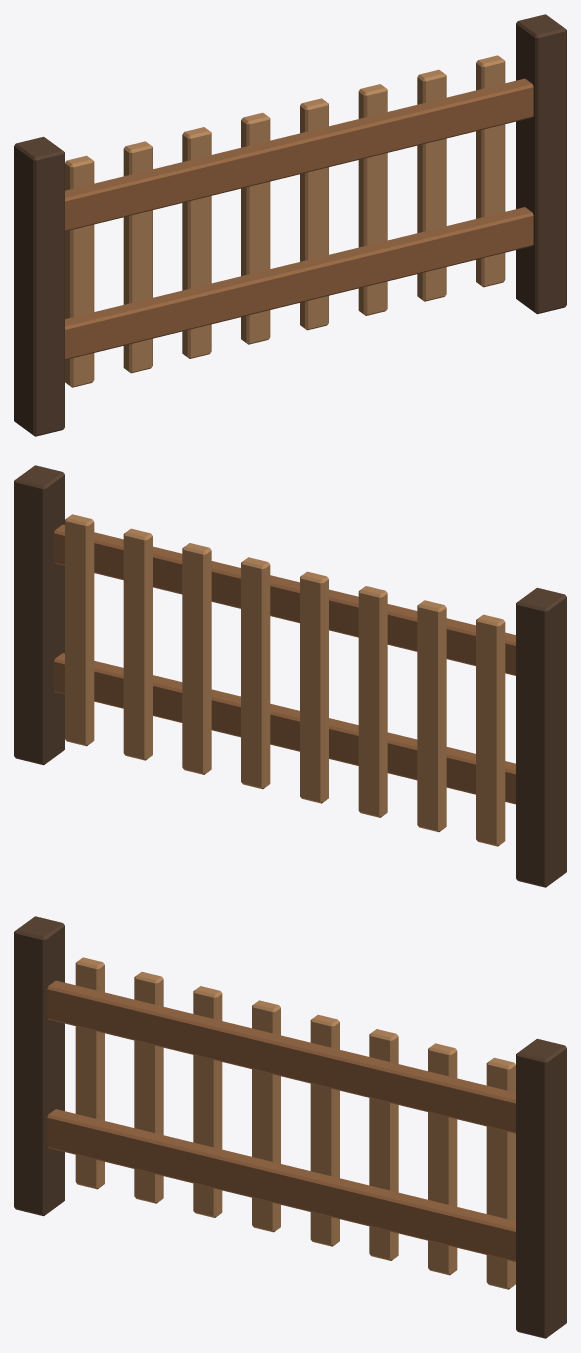
File: fence_panel.glb
3 renders of one model, top to bottom at view 1: azimuth 30°, elevation 25°; view 2: azimuth 150°, elevation 25°; view 3: azimuth 330°, elevation 25°, orthographic.
Visible parts, largest first — view 1: Alfa_fence_panel; view 2: Alfa_fence_panel; view 3: Alfa_fence_panel.
Boxes of the visible parts, box(x1,y1,x2,y2) form: Alfa_fence_panel: box(14, 14, 566, 436); Alfa_fence_panel: box(14, 465, 566, 887); Alfa_fence_panel: box(14, 916, 566, 1338).
Bounding box in the file's own units: 2 × 1 × 0.14.
